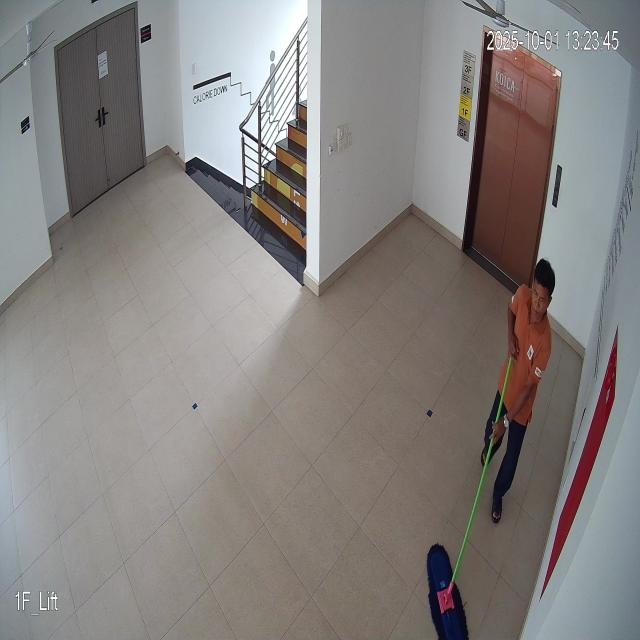face: (529, 250, 556, 328)
